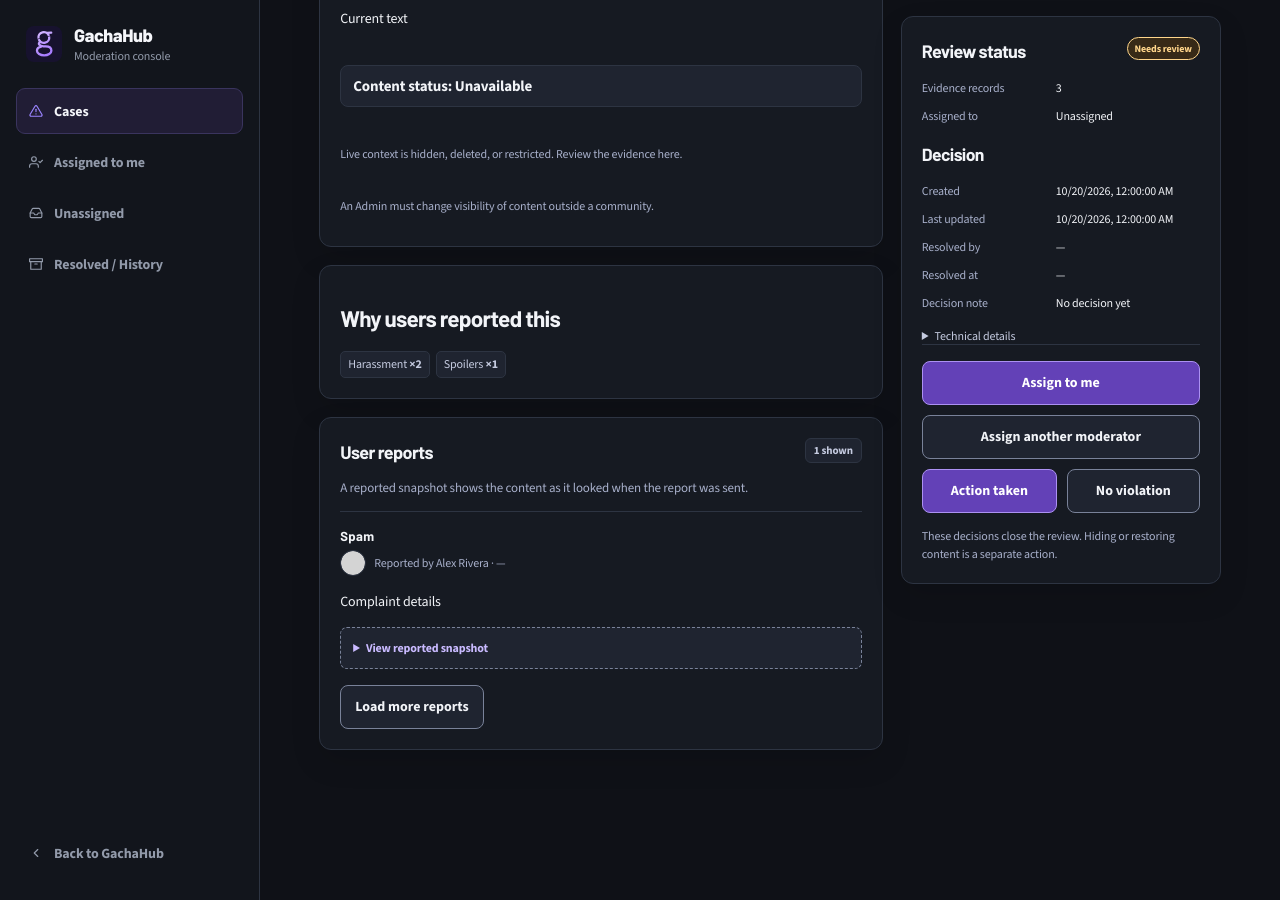
Test: loads only bounded later evidence pages
The width and height of the screenshot is (1280, 900).
(page scrolled)
Step 1. Click the button "Load more reports" → (412,707), box [340, 685, 484, 729]
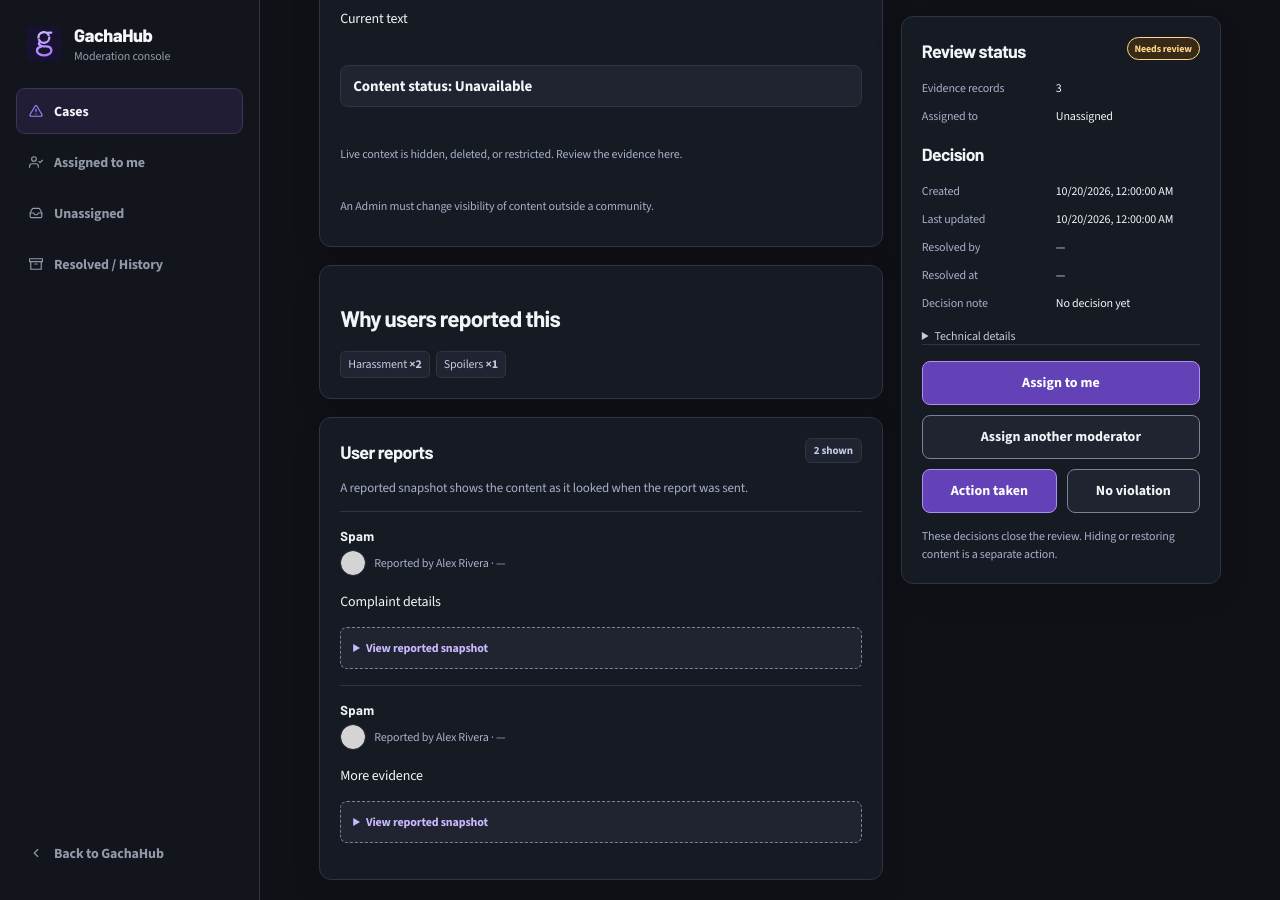
Result: the text "More evidence" is shown at [340, 766, 423, 785]
Result: the button "Load more reports" is gone
